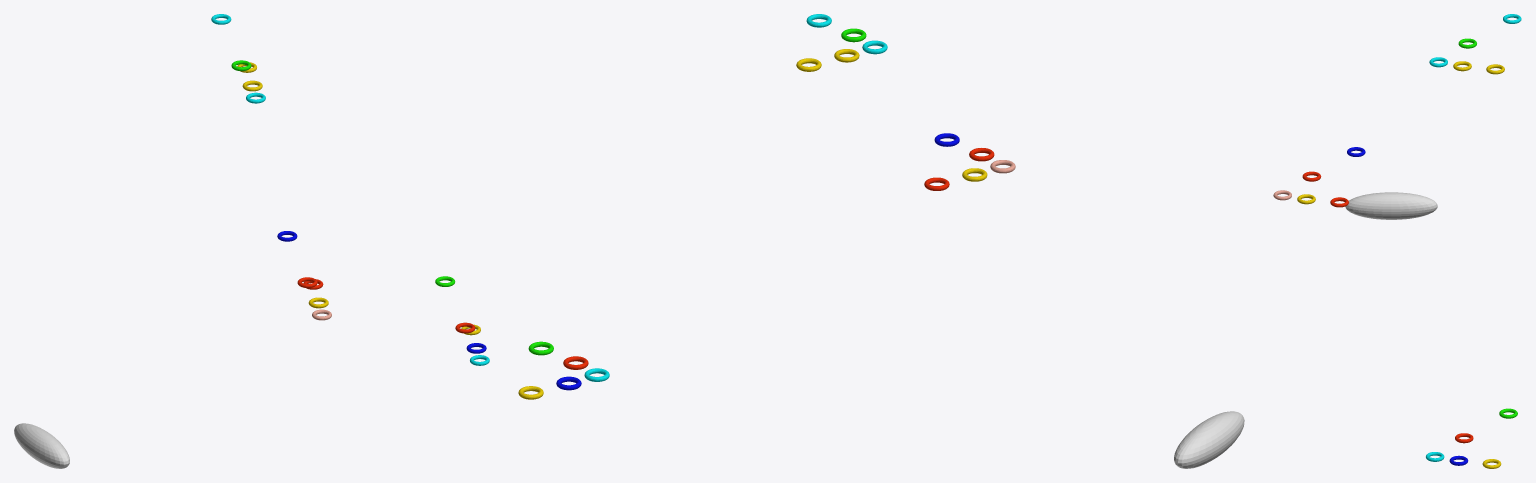
3 renders of one model, left to right at view 1: azimuth 30°, elevation 25°; view 2: azimuth 150°, elevation 25°; view 3: azimuth 270°, elevation 25°, orthographic. The views are drawn at different scales.
Parts seen in each view (by area): view 1: Sphere; view 2: Sphere; view 3: Sphere.
Boxes of the visible parts, left/top/right/bottom form: Sphere: left=14, top=423, right=69, bottom=468; Sphere: left=1174, top=411, right=1244, bottom=468; Sphere: left=1345, top=192, right=1437, bottom=219.
Size of the model in its own units: 3.63 by 2.52 by 1.66.
